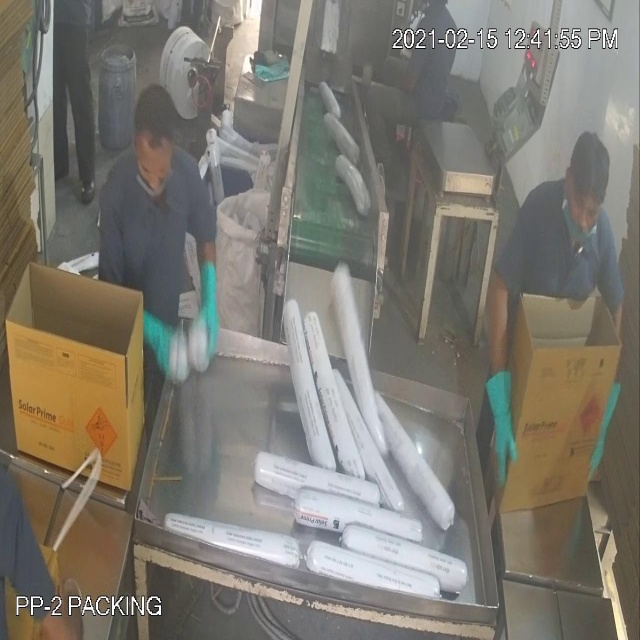Guantes: (480, 348, 527, 506), (184, 254, 229, 357)
